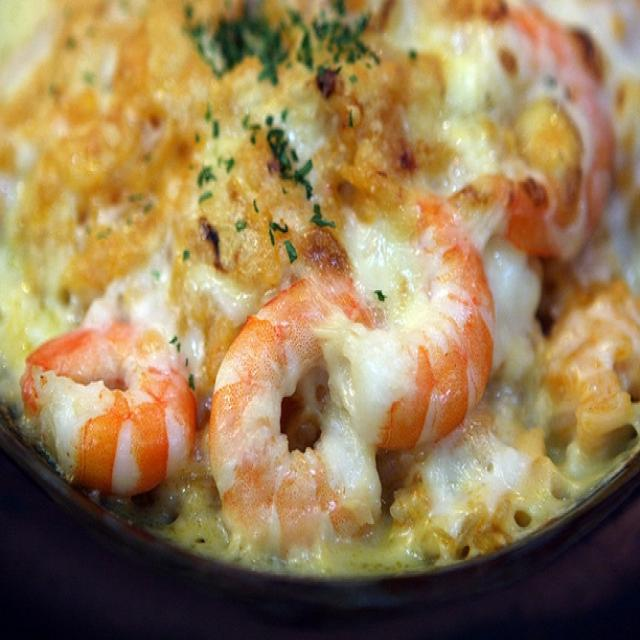米饭主食: (23, 15, 623, 572)
